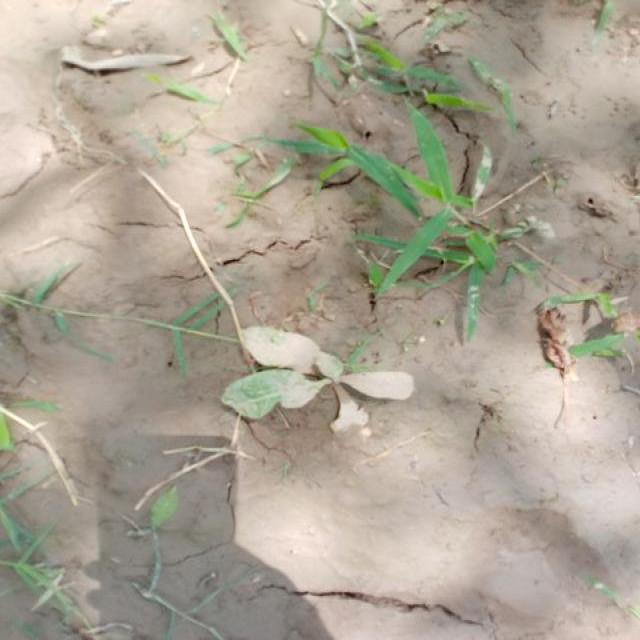crop: (220, 326, 416, 451)
